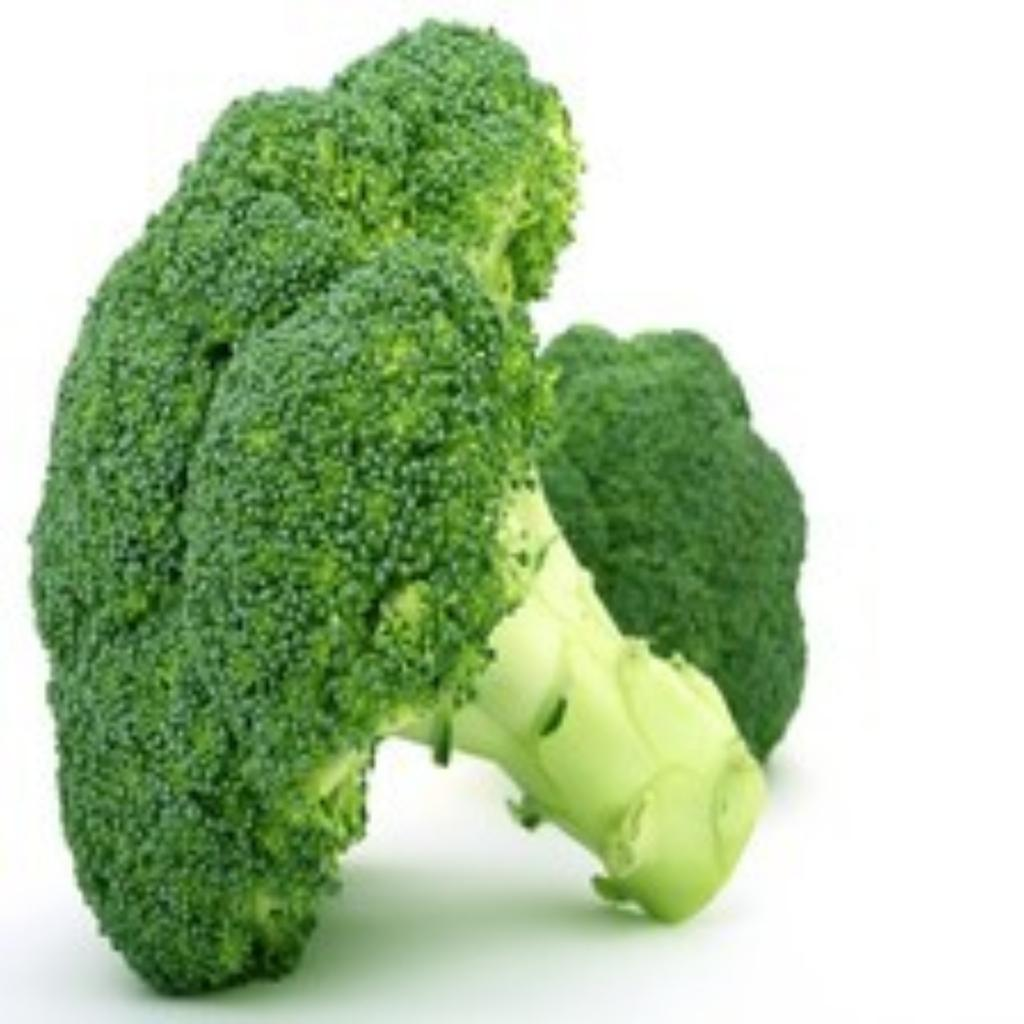Broccoli: (32, 24, 800, 991), (34, 24, 798, 991), (162, 244, 542, 989)
